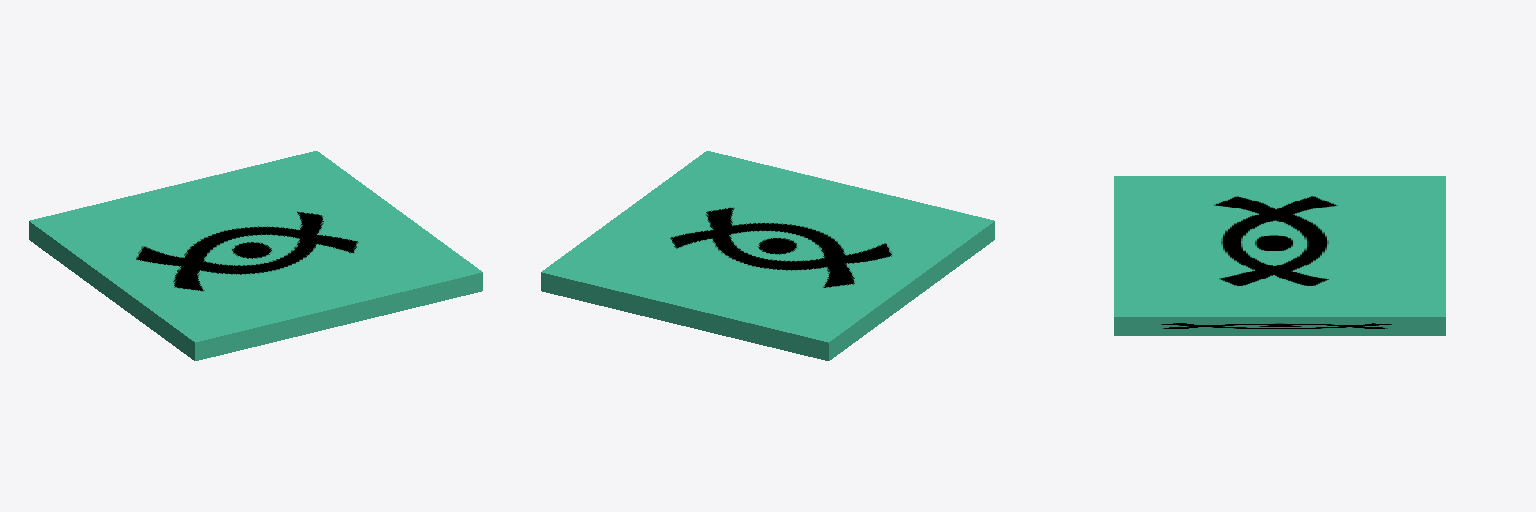
3 views of the same model, side by side, from view 1: azimuth 30°, elevation 25°; view 2: azimuth 150°, elevation 25°; view 3: azimuth 270°, elevation 25° (orthographic).
Visible parts, largest first — view 1: Cube.001_Cube.003; view 2: Cube.001_Cube.003; view 3: Cube.001_Cube.003.
Boxes of the visible parts, box(x1,y1,x2,y2) form: Cube.001_Cube.003: box(29, 151, 482, 360); Cube.001_Cube.003: box(541, 151, 994, 360); Cube.001_Cube.003: box(1114, 176, 1445, 335).
Bounding box in the file's own units: 0.0905 × 0.0057 × 0.0905.
1 materials, 1 textured.